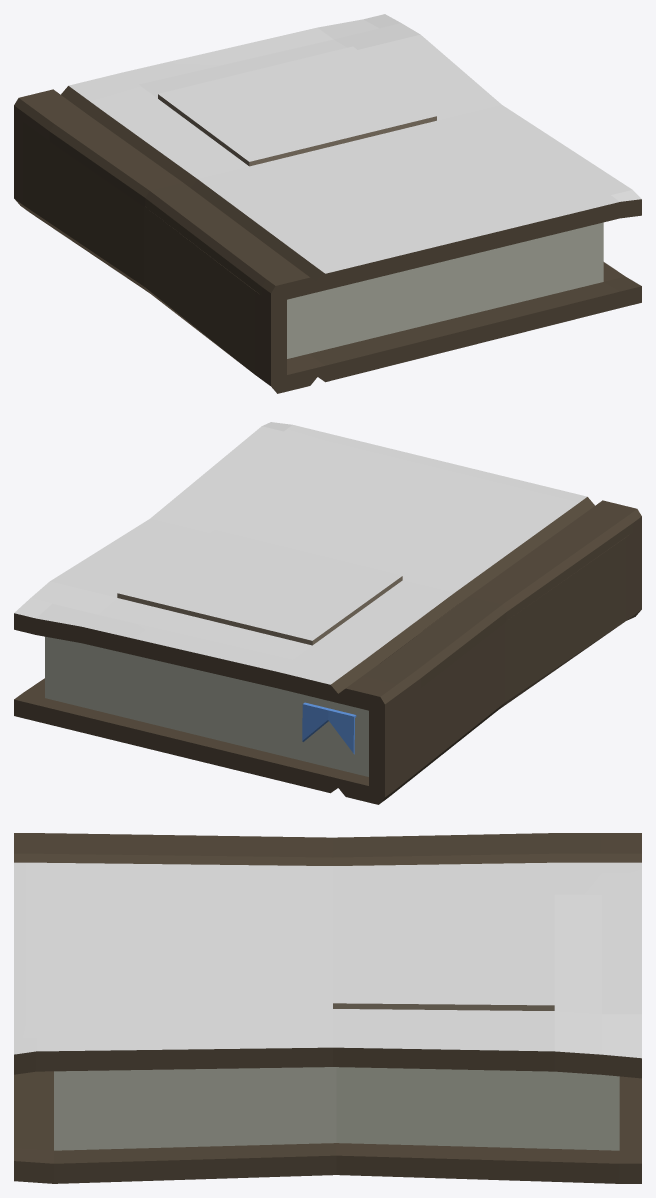
File: Book.fbx
3 views of the same model, one above another, from view 1: azimuth 30°, elevation 25°; view 2: azimuth 150°, elevation 25°; view 3: azimuth 270°, elevation 25° (orthographic). The views are drawn at different scales.
Visible parts, largest first — view 1: Plane.400; view 2: Plane.400; view 3: Plane.400.
Boxes of the visible parts, x1,y1,x2,y2 form: Plane.400: (14, 14, 641, 393); Plane.400: (14, 422, 641, 804); Plane.400: (14, 833, 641, 1183).
Bounding box in the file's own units: 48.29 × 14.08 × 57.95.
